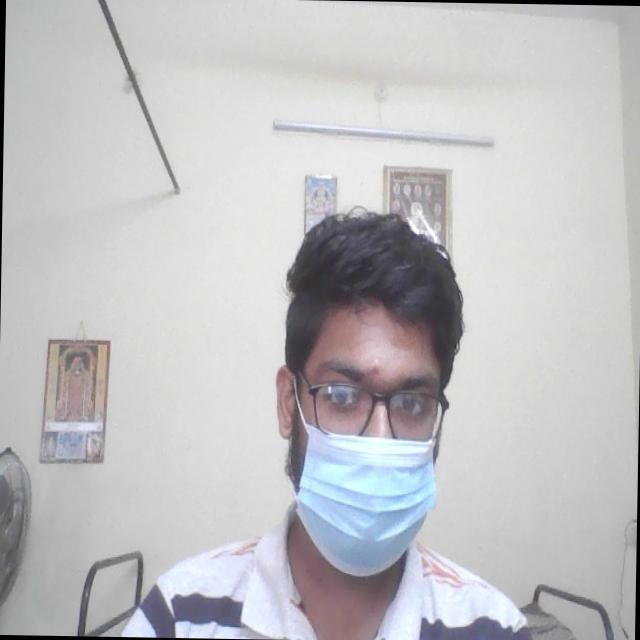Focused: (300, 352, 448, 534)
